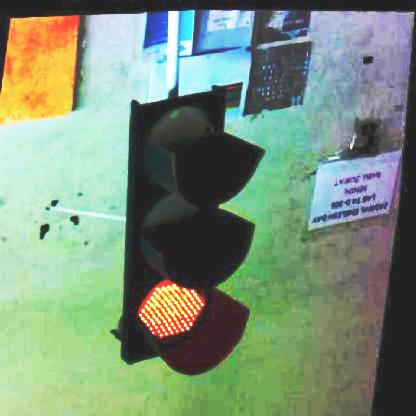Traffic Light -Red-: (100, 87, 280, 378)
